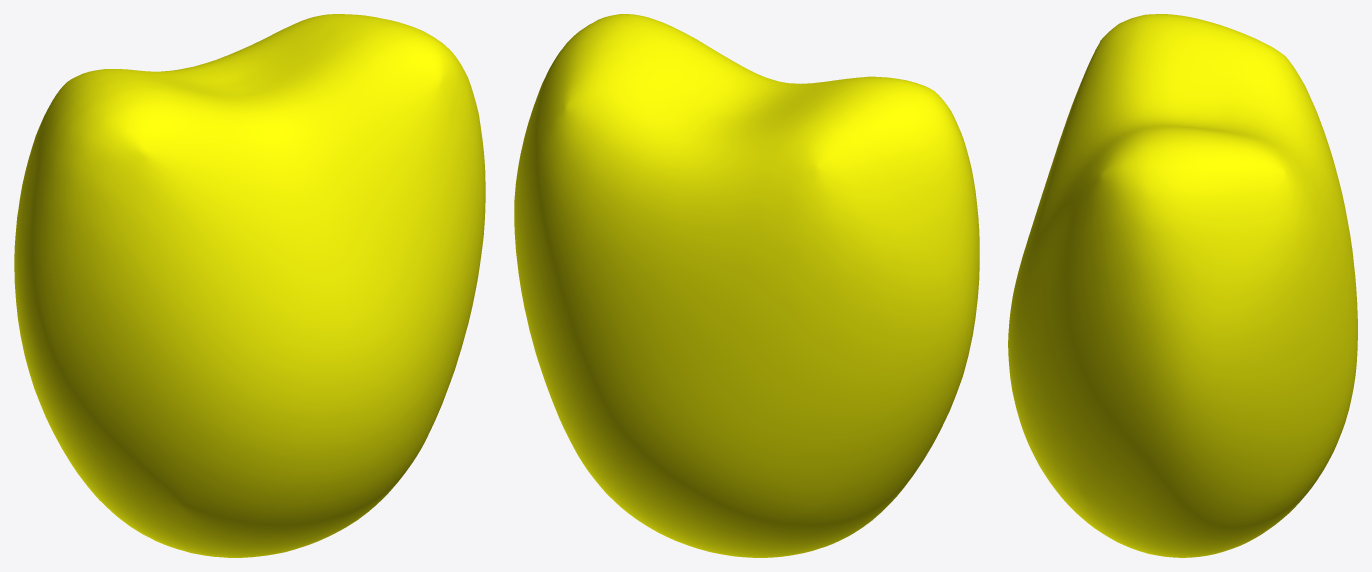
Rendered from plant-c.q.glb.
3 views of the same model, side by side, from view 1: azimuth 30°, elevation 25°; view 2: azimuth 150°, elevation 25°; view 3: azimuth 270°, elevation 25° (orthographic). The views are drawn at different scales.
Parts seen in each view (by area): view 1: PlantCMorphFixUV.001; view 2: PlantCMorphFixUV.001; view 3: PlantCMorphFixUV.001.
Boxes of the visible parts, bbox=[...] form: PlantCMorphFixUV.001: bbox=[14, 14, 485, 557]; PlantCMorphFixUV.001: bbox=[514, 14, 979, 557]; PlantCMorphFixUV.001: bbox=[1008, 14, 1357, 557].
Bounding box in the file's own units: 0.9167 × 0.9613 × 0.6664.
1 material, 1 textured.
